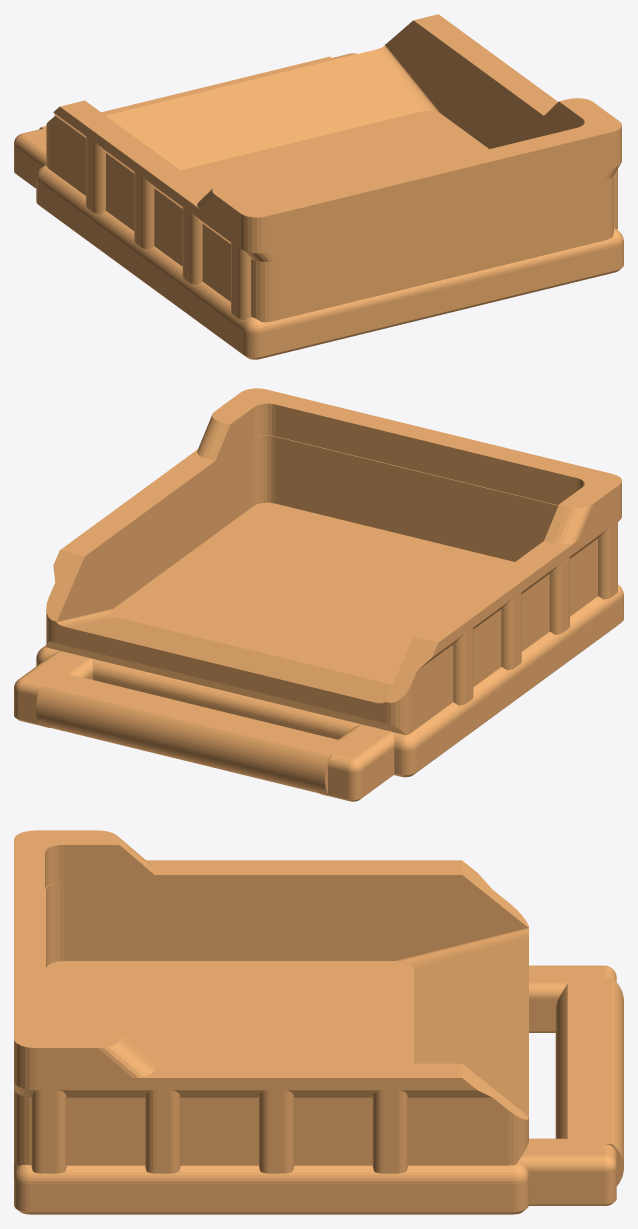
Rendered from kit-tilting-tub.glb.
3 views of the same model, one above another, from view 1: azimuth 30°, elevation 25°; view 2: azimuth 150°, elevation 25°; view 3: azimuth 270°, elevation 25° (orthographic). The views are drawn at different scales.
Visible parts, largest first — view 1: kit-tilting-tub; view 2: kit-tilting-tub; view 3: kit-tilting-tub.
Boxes of the visible parts, x1=… form: kit-tilting-tub: x1=14, y1=14, x2=623, y2=359; kit-tilting-tub: x1=14, y1=388, x2=623, y2=801; kit-tilting-tub: x1=14, y1=830, x2=623, y2=1214.
Bounding box in the file's own units: 0.0498 × 0.018 × 0.059.
